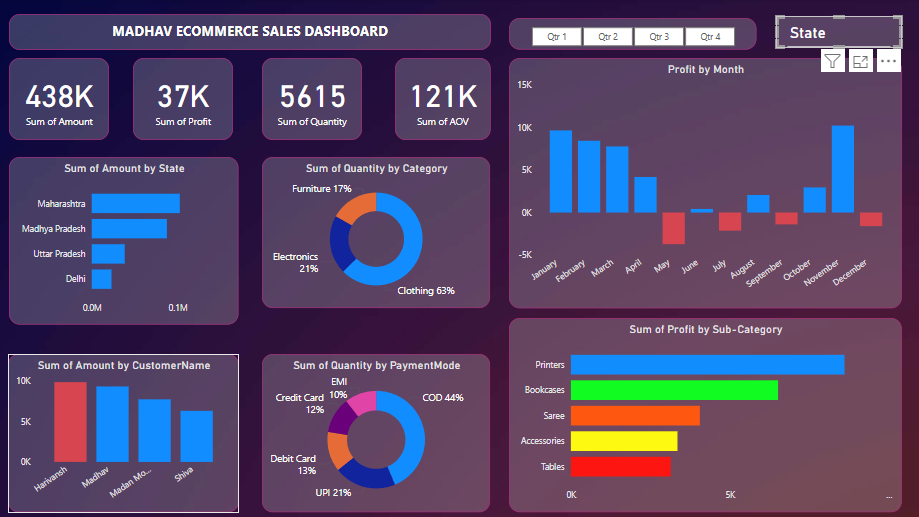

Layout of this report page (visuals, bound fields, positions):
{"tool":"powerbi","page":{"name":"Page 1","canvas":[1280,720],"ordinal":0},"visuals":[{"type":"columnChart","title":"Profit by Month","fields":{"Category":["Orders.Order Date.Variation.Date Hierarchy.Month"],"Y":["Details.Profit"]},"box":[708.9,82.3,545.9,347.7],"z":0},{"type":"barChart","fields":{"Category":["Details.Sub-Category"],"Y":["Details.Profit"]},"box":[708.9,443.5,545.9,270.4],"z":1000},{"type":"donutChart","fields":{"Category":["Details.Category"],"Y":["Details.Quantity"]},"box":[366.2,220.1,317.5,210],"z":2000},{"type":"donutChart","fields":{"Category":["Details.PaymentMode"],"Y":["Details.Quantity"]},"box":[366.2,493.9,317.5,220.1],"z":3000},{"type":"card","fields":{"Values":["Details.Amount"]},"box":[13.4,82.3,139.4,114.2],"z":4000},{"type":"card","fields":{"Values":["Details.Profit"]},"box":[186.5,82.3,139.4,114.2],"z":5000},{"type":"card","fields":{"Values":["Details.Quantity"]},"box":[366.2,82.3,139.4,114.2],"z":6000},{"type":"card","fields":{"Values":["Details.AOV"]},"box":[551,82.3,132.7,114.2],"z":7000},{"type":"barChart","fields":{"Category":["Orders.State"],"Y":["Details.Amount"]},"box":[13.4,220.1,319.2,233.5],"z":8000},{"type":"columnChart","fields":{"Category":["Orders.CustomerName"],"Y":["Details.Amount"]},"box":[13,494,321,220],"z":9000},{"type":"textbox","box":[13.4,20.2,670.2,50.4],"z":9001},{"type":"slicer","fields":{"Values":["Orders.Order Date.Variation.Date Hierarchy.Quarter"]},"box":[708.9,26.9,344.4,43.7],"z":9002},{"type":"slicer","fields":{"Values":["Orders.State"]},"box":[1080.1,26.9,174.7,43.7],"z":9003}]}

Visuals, with their boxes in screenshot pixels (x1, y1, x2, y2), scaled from the page's 1280x720 canvas onto the 919x517 screenshot:
"Profit by Month" columnChart: detection(509, 59, 901, 309)
barChart - Details.Sub-Category x Details.Profit: detection(509, 318, 901, 513)
donutChart - Details.Category x Details.Quantity: detection(263, 158, 491, 309)
donutChart - Details.PaymentMode x Details.Quantity: detection(263, 355, 491, 513)
card - Details.Amount: detection(10, 59, 110, 141)
card - Details.Profit: detection(134, 59, 234, 141)
card - Details.Quantity: detection(263, 59, 363, 141)
card - Details.AOV: detection(396, 59, 491, 141)
barChart - Orders.State x Details.Amount: detection(10, 158, 239, 326)
columnChart - Orders.CustomerName x Details.Amount: detection(9, 355, 240, 513)
textbox: detection(10, 15, 491, 51)
slicer - Orders.Order Date.Variation.Date Hierarchy.Quarter: detection(509, 19, 756, 51)
slicer - Orders.State: detection(775, 19, 901, 51)
